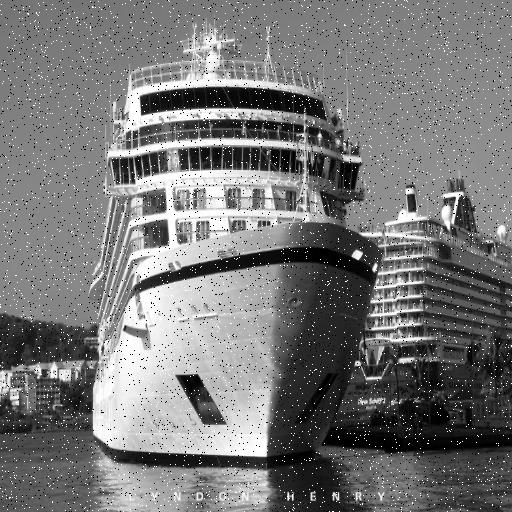cruises: (85, 25, 377, 471), (349, 172, 512, 398)
